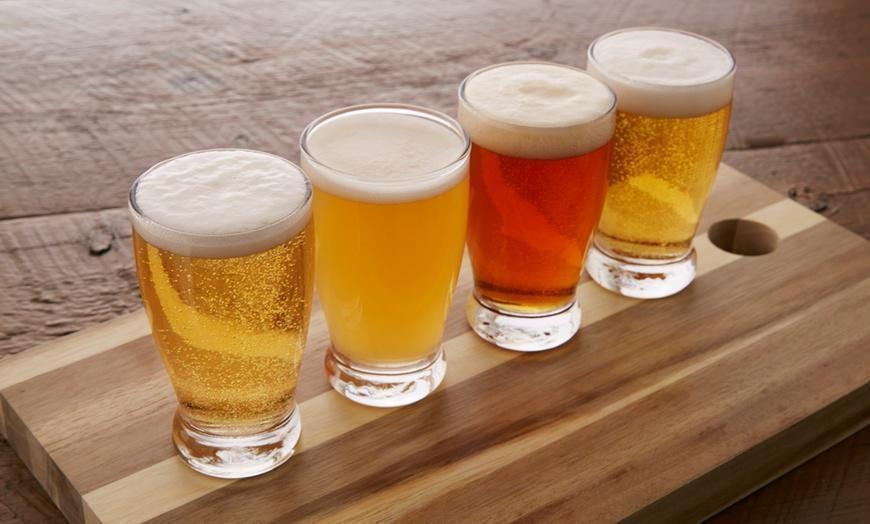glass-normal: (127, 146, 318, 478), (299, 102, 474, 407), (456, 60, 620, 351), (583, 25, 737, 298)
